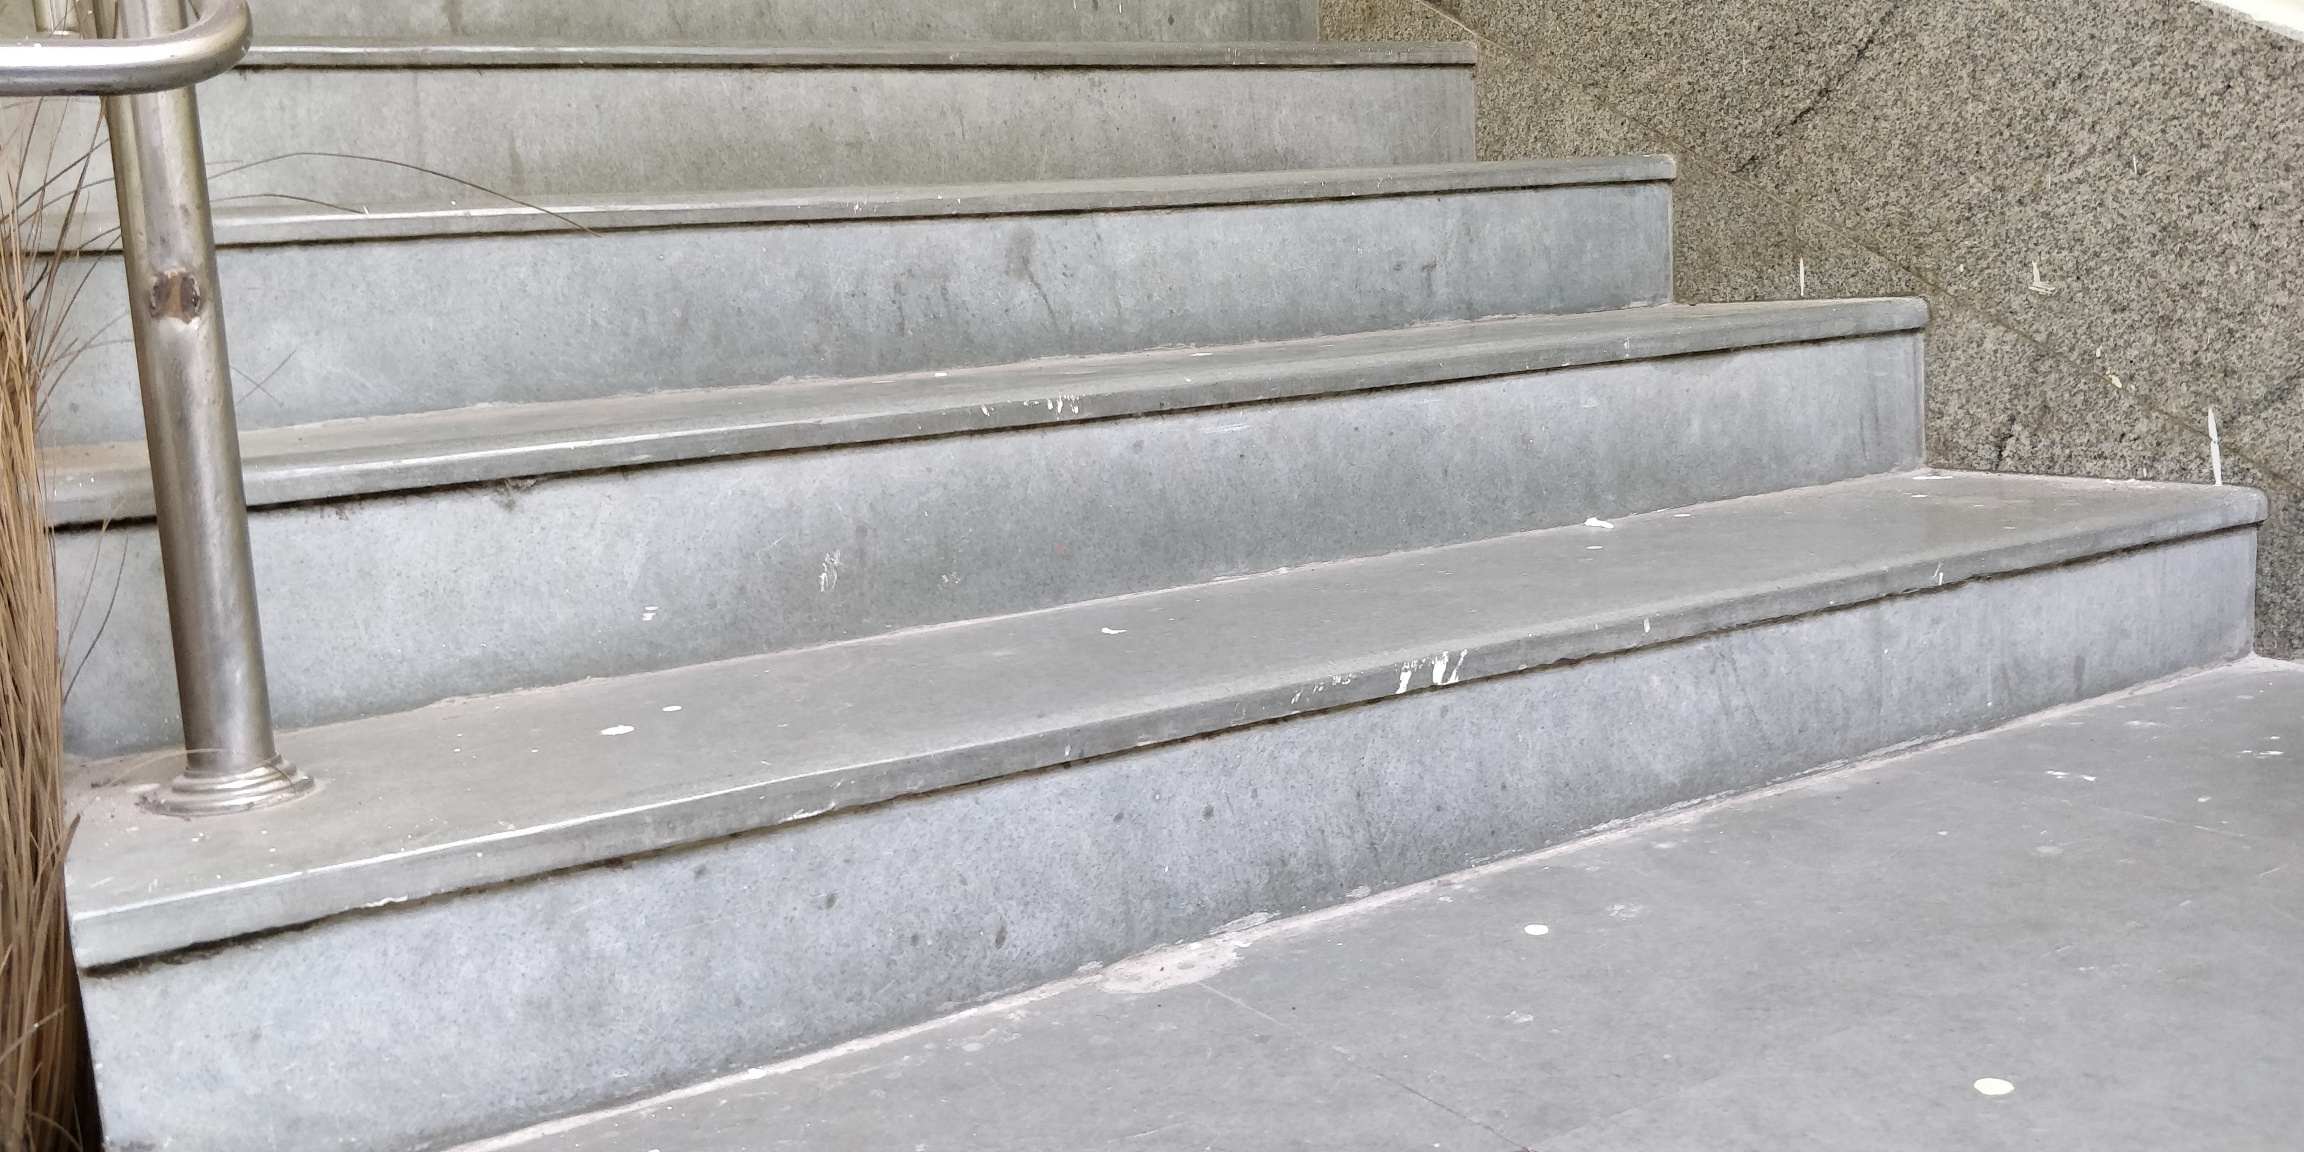stairs_up: (35, 7, 2304, 1004)
